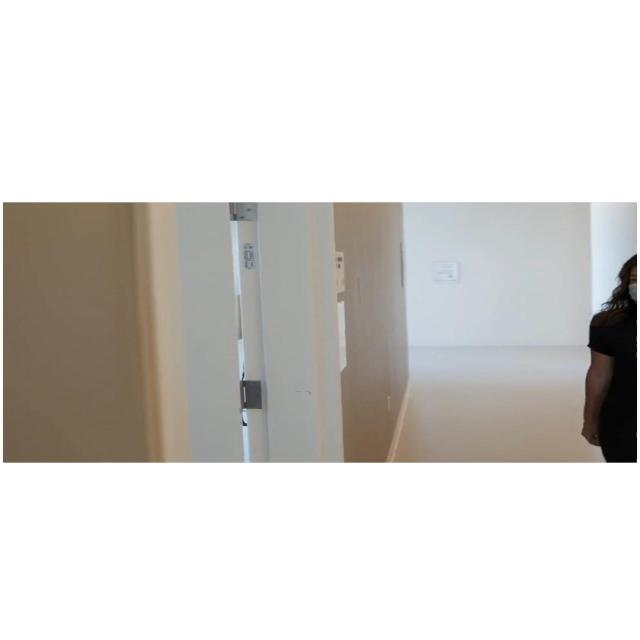Mask: (630, 264, 640, 298)
